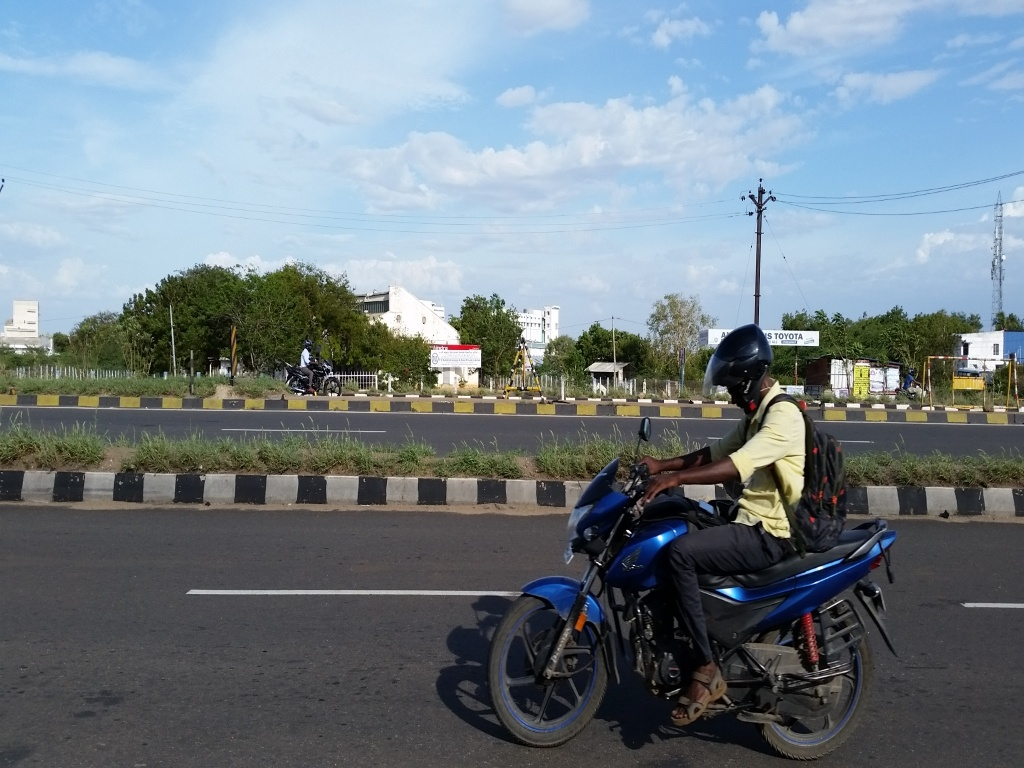biker: (468, 261, 913, 766), (278, 323, 352, 404)
helmet: (696, 311, 790, 423), (300, 335, 317, 354)
